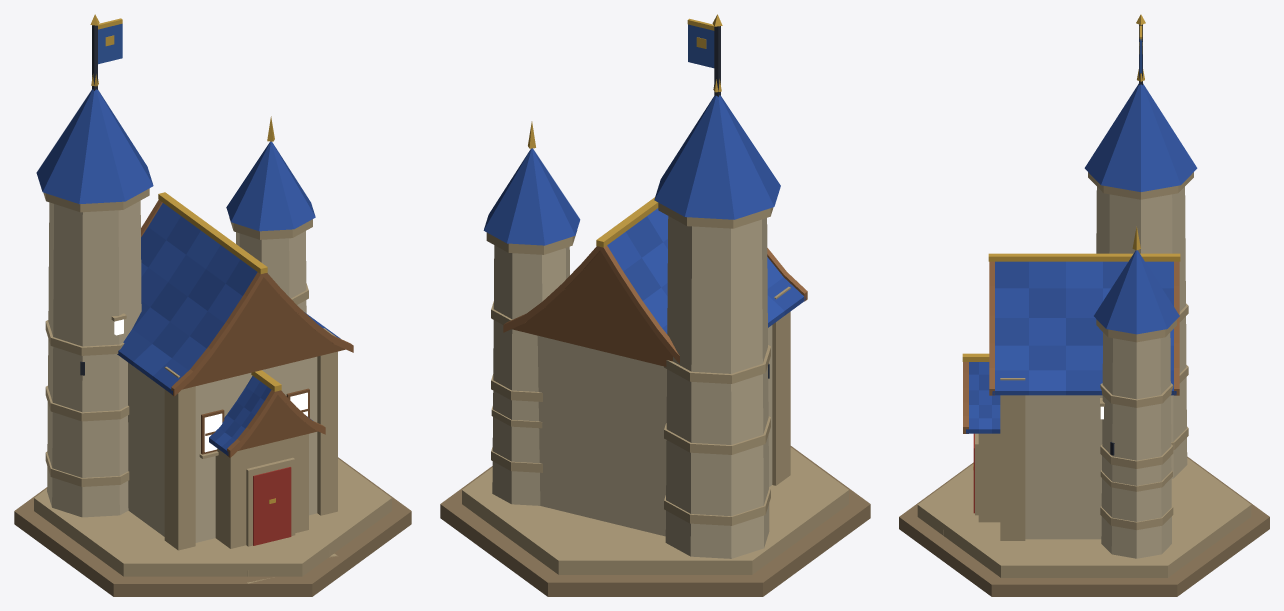
File: castle_t2.glb
3 renders of one model, left to right at view 1: azimuth 30°, elevation 25°; view 2: azimuth 150°, elevation 25°; view 3: azimuth 270°, elevation 25°, orthographic. The views are drawn at different scales.
Parts seen in each view (by area): view 1: body, glow; view 2: body; view 3: body.
Boxes of the visible parts, box(x1,y1,x2,y2) form: body: box(14, 14, 411, 596); glow: box(114, 319, 307, 452); body: box(440, 14, 870, 596); body: box(899, 14, 1269, 596).
Bounding box in the file's own units: 3.81 × 6.22 × 4.4.
